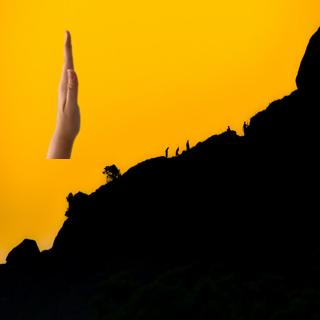Right: (46, 25, 97, 161)
